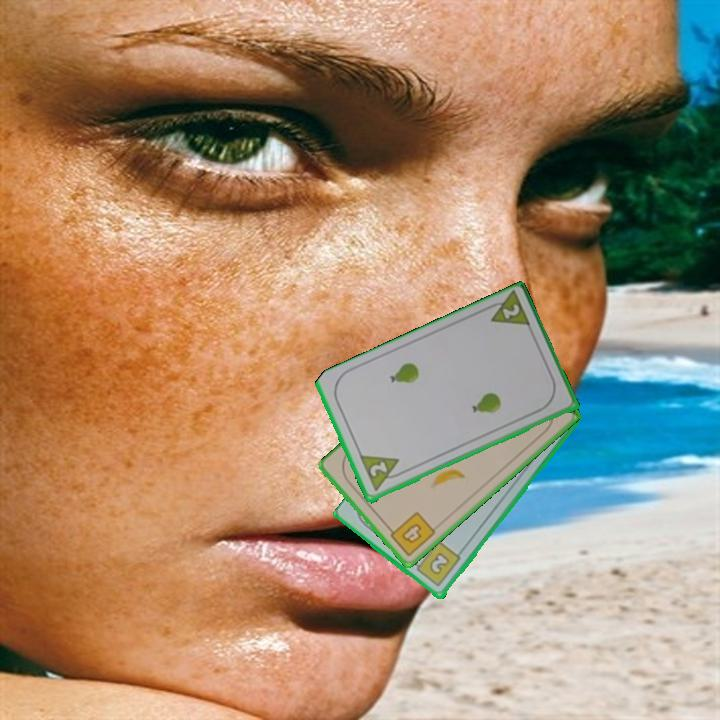2b: (409, 538, 464, 590)
2p: (480, 289, 534, 332), (356, 452, 407, 495)
4b: (383, 508, 439, 559)
